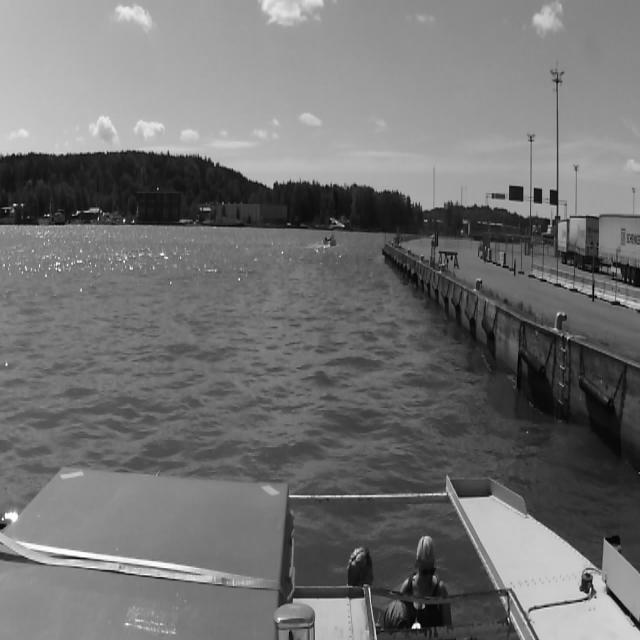ship: (328, 215, 346, 232), (324, 236, 336, 246)
